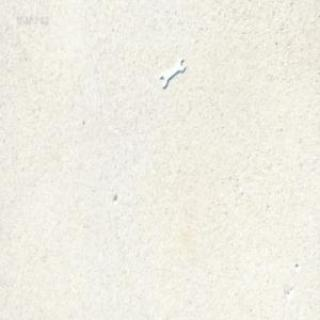Wrenchtrack_idkeyframe: (158, 56, 184, 88)
